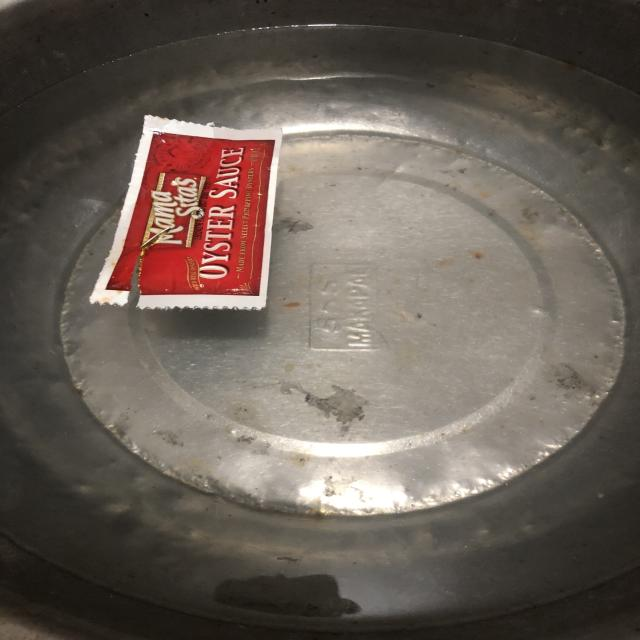Plastic Wrapper: (72, 94, 307, 338)
